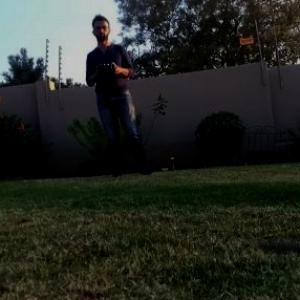follow: (84, 5, 158, 180)
